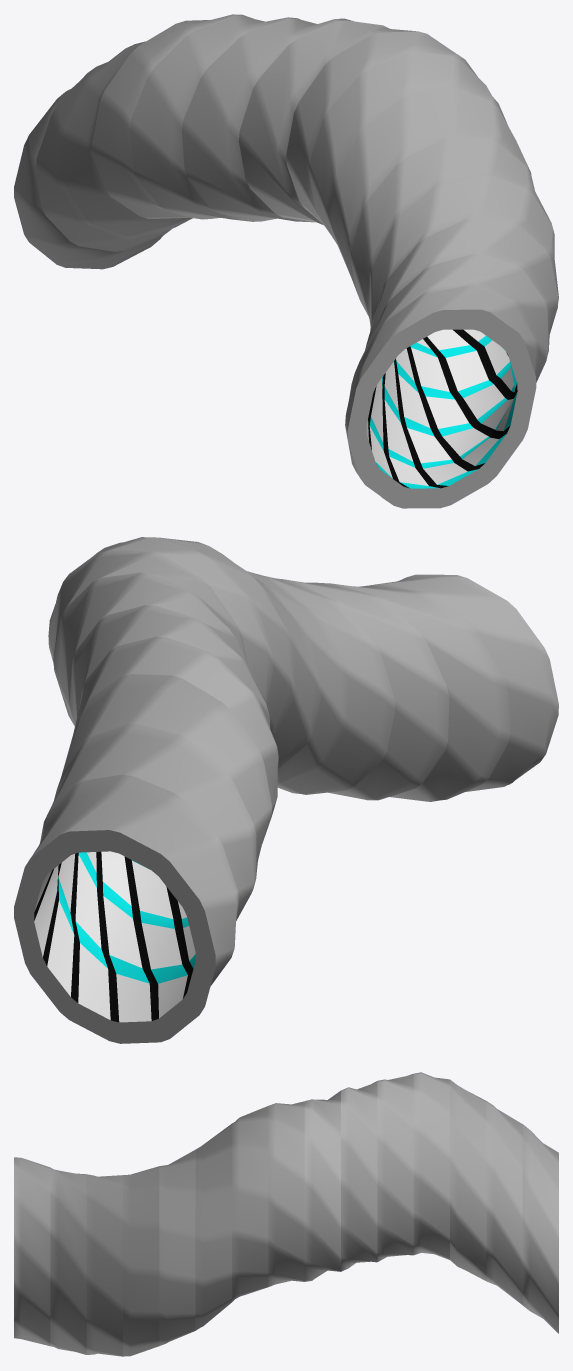
The model's file is 03-Espiral-l01.fbx.
3 views of the same model, one above another, from view 1: azimuth 30°, elevation 25°; view 2: azimuth 150°, elevation 25°; view 3: azimuth 270°, elevation 25° (orthographic). The views are drawn at different scales.
Visible parts, largest first — view 1: Visual; view 2: Visual; view 3: Visual.
Part boxes in pixels (<box>): Visual: <box>14,14,558,508</box>; Visual: <box>14,537,558,1043</box>; Visual: <box>14,1072,558,1356</box>.
Bounding box in the file's own units: 8247 × 8101 × 15000.
